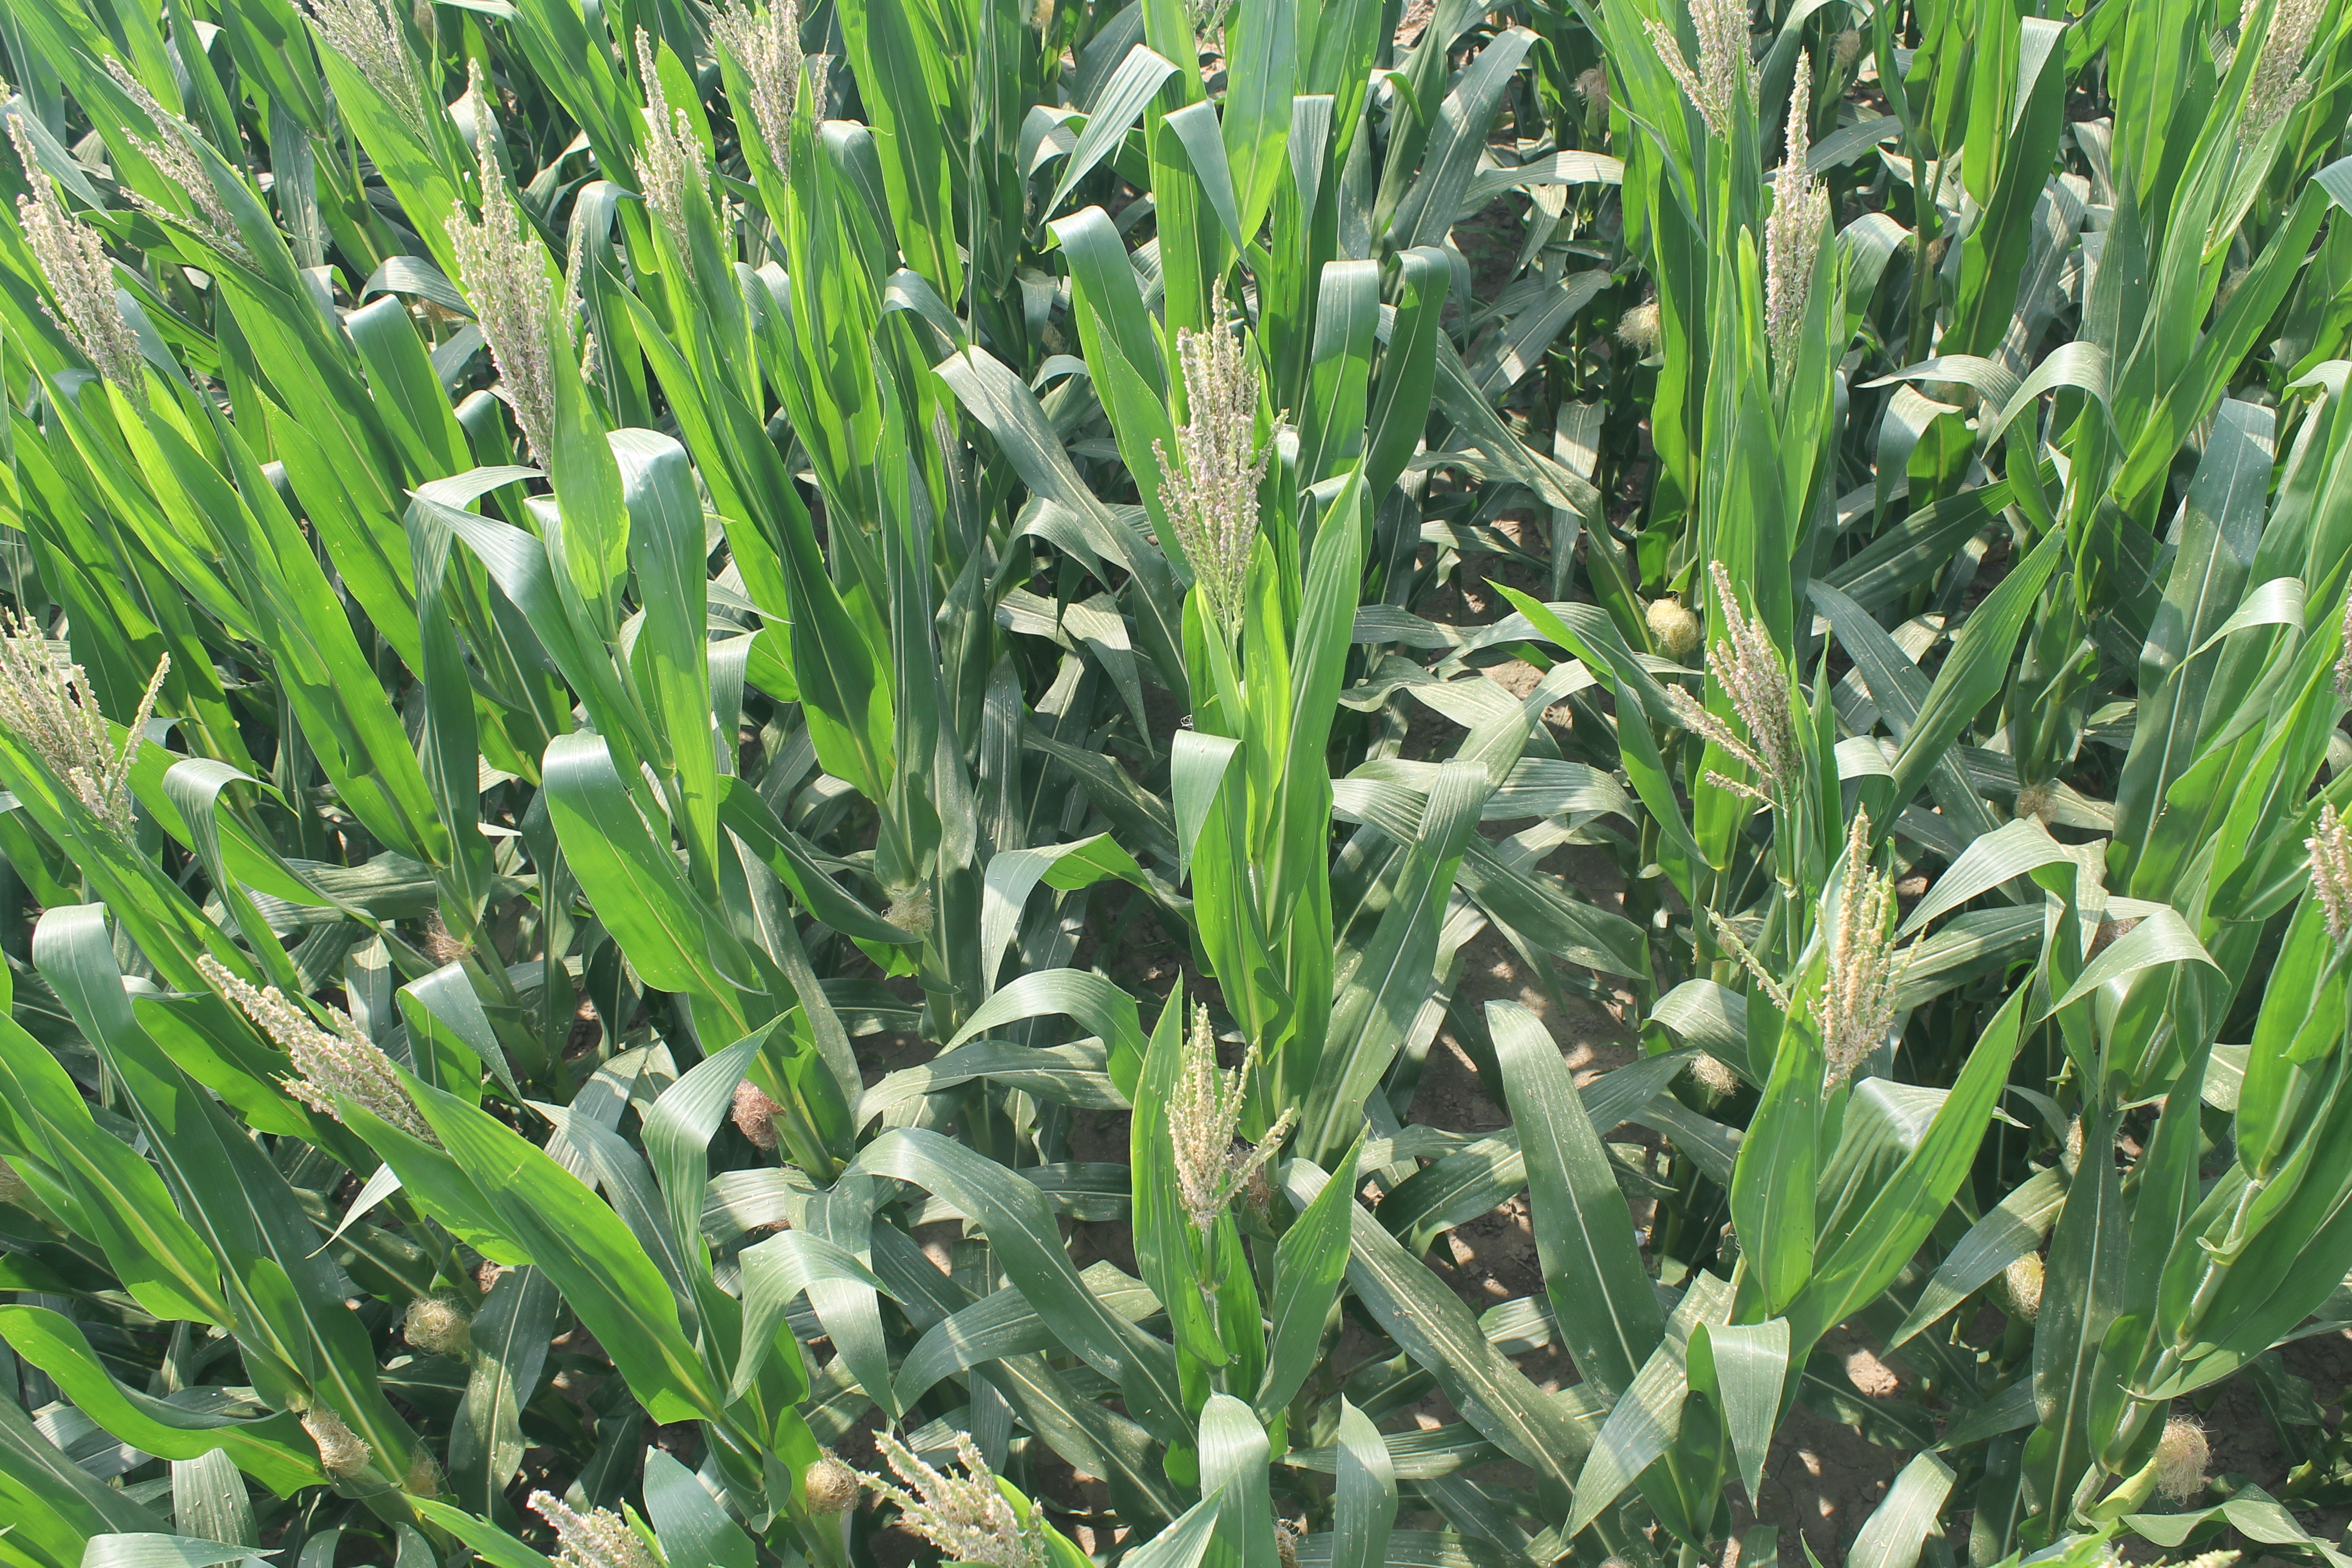Maize: (1136, 287, 1307, 644), (1704, 828, 1927, 1085), (191, 947, 437, 1172), (0, 597, 194, 852), (448, 56, 569, 465), (1136, 987, 1330, 1218), (119, 52, 287, 268), (842, 1407, 1064, 1568), (1664, 549, 1799, 787), (0, 112, 107, 383), (1764, 45, 1848, 327), (612, 33, 716, 243), (516, 1466, 695, 1568), (2224, 0, 2352, 140), (728, 0, 842, 152), (306, 0, 434, 112), (1652, 0, 1757, 121), (2289, 808, 2352, 950)
